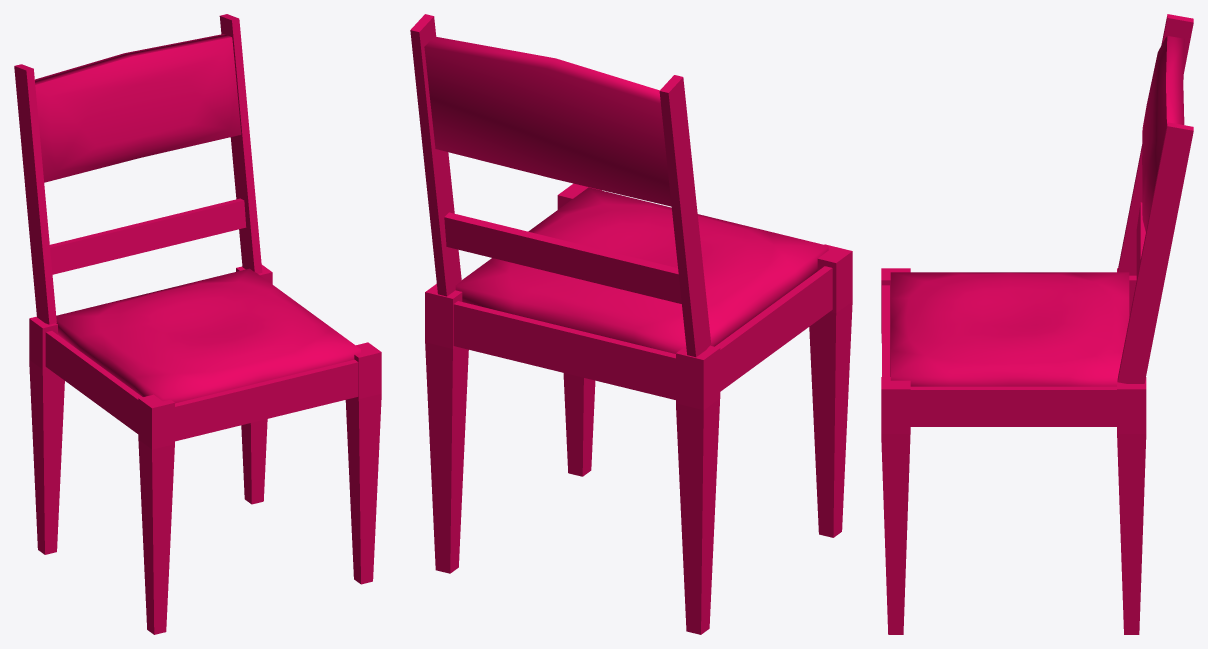
File: Chair_07_Lod0.fbx
3 views of the same model, side by side, from view 1: azimuth 30°, elevation 25°; view 2: azimuth 150°, elevation 25°; view 3: azimuth 270°, elevation 25° (orthographic). The views are drawn at different scales.
Visible parts, largest first — view 1: Chair_07_Lod0; view 2: Chair_07_Lod0; view 3: Chair_07_Lod0.
Boxes of the visible parts, x1,y1,x2,y2 form: Chair_07_Lod0: [14, 14, 381, 634]; Chair_07_Lod0: [410, 14, 852, 634]; Chair_07_Lod0: [881, 14, 1193, 634].
Bounding box in the file's own units: 54.3 × 106 × 59.28.
